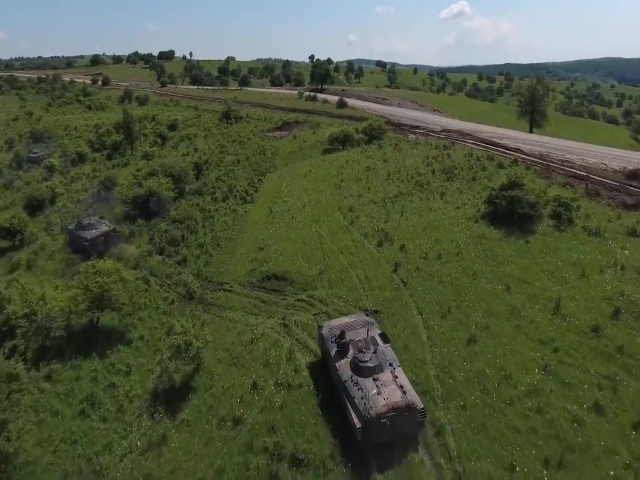vehicle: (317, 312, 428, 449), (68, 215, 118, 254)
